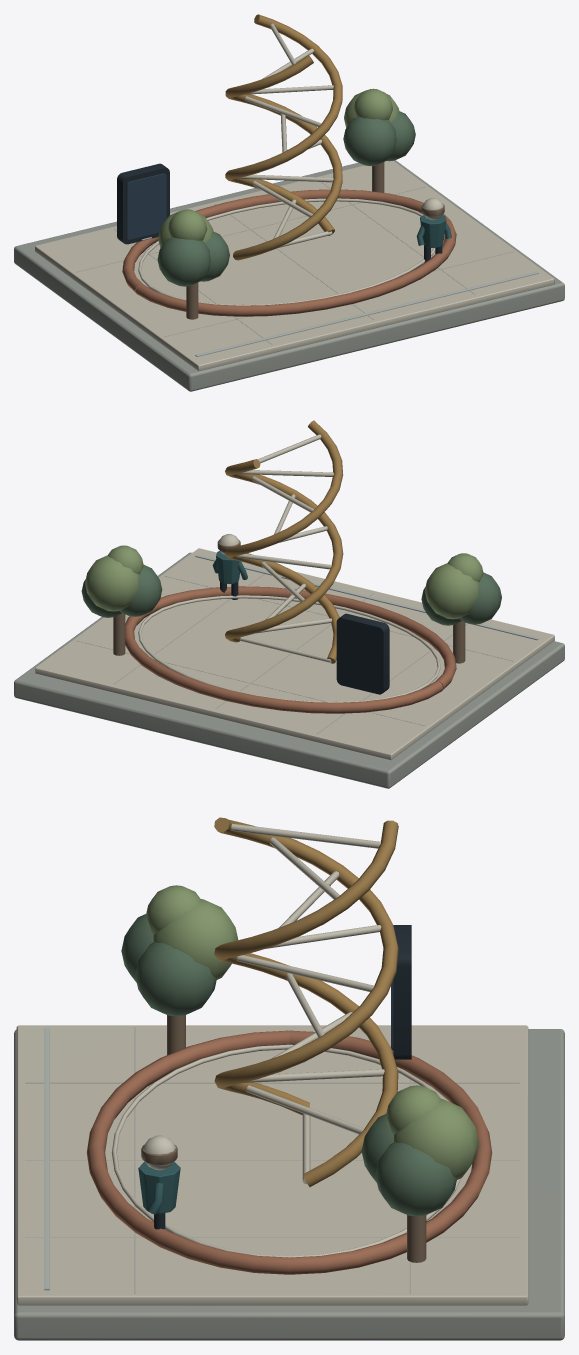
The model's file is idea-19c6c312.glb.
3 views of the same model, one above another, from view 1: azimuth 30°, elevation 25°; view 2: azimuth 150°, elevation 25°; view 3: azimuth 270°, elevation 25° (orthographic). The views are drawn at different scales.
Visible parts, largest first — view 1: Run DNA; view 2: Run DNA; view 3: Run DNA.
Boxes of the visible parts, <box> form: Run DNA: <box>14,14,564,391</box>; Run DNA: <box>14,420,564,788</box>; Run DNA: <box>14,817,564,1340</box>.
Size of the model in its own units: 4.8 by 2.97 by 3.9.
